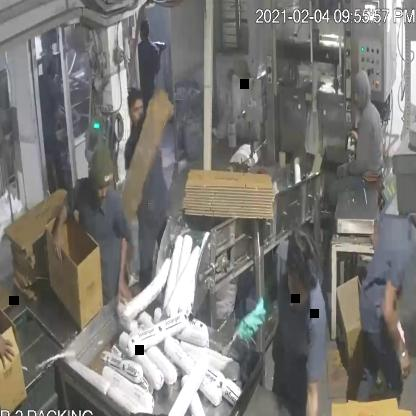glove: (232, 293, 275, 345)
no_glove: (379, 263, 416, 390), (109, 223, 135, 317), (50, 189, 74, 262), (0, 315, 23, 387), (298, 359, 327, 416)
